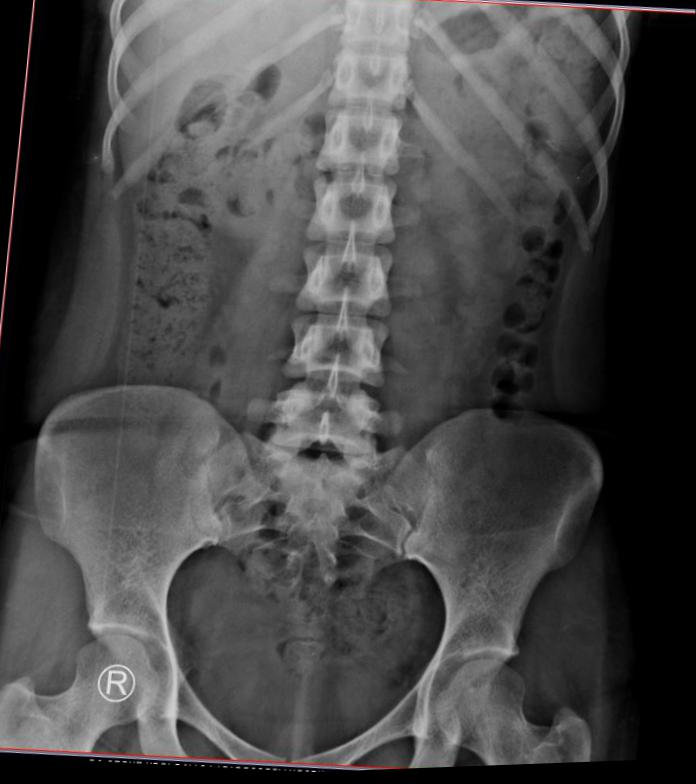vertebrae: (313, 106, 408, 184)
